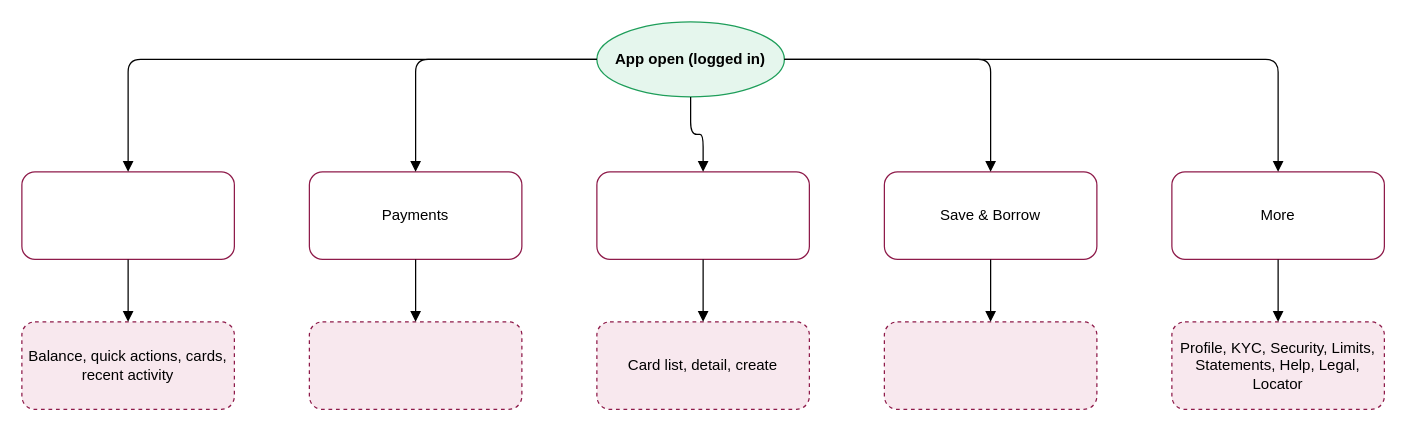
Image size: 1406x431. Some labels were removed from this diagram. The centre of each missing label's shape, as x and y in pixels:
Cards: the point at 702,215
Home: the point at 127,215
Send, Airtime, Bills, Scheduled, Dues (S2), Beneficiaries: the point at 415,365
Target Savings, Group Savings, Pay Am Small, Borrow, Escrow (Stage 2): the point at 990,365
